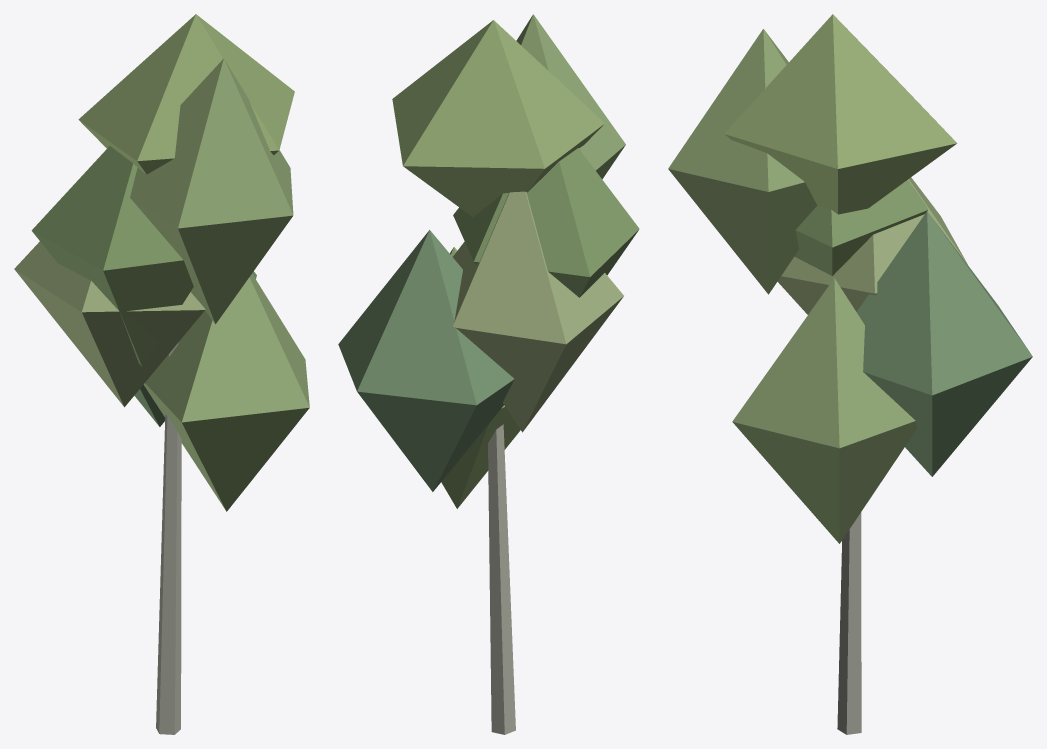
3 renders of one model, left to right at view 1: azimuth 30°, elevation 25°; view 2: azimuth 150°, elevation 25°; view 3: azimuth 270°, elevation 25°, orthographic. The views are drawn at different scales.
Size of the model in its own units: 5.55 by 15.56 by 7.1.
